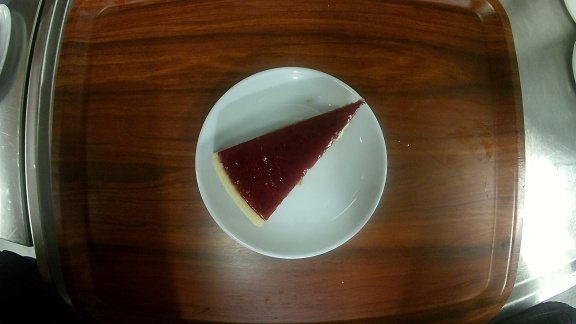frambuazlipasta: (195, 67, 389, 258)
